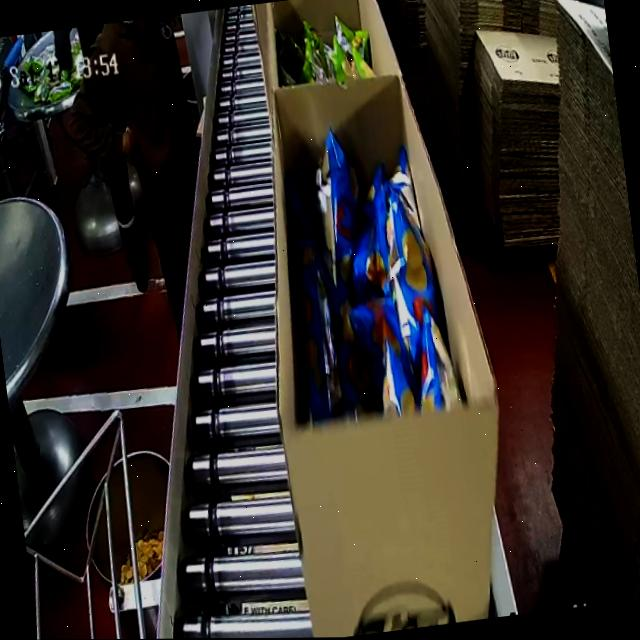PAPRIKA: (275, 123, 462, 422)
